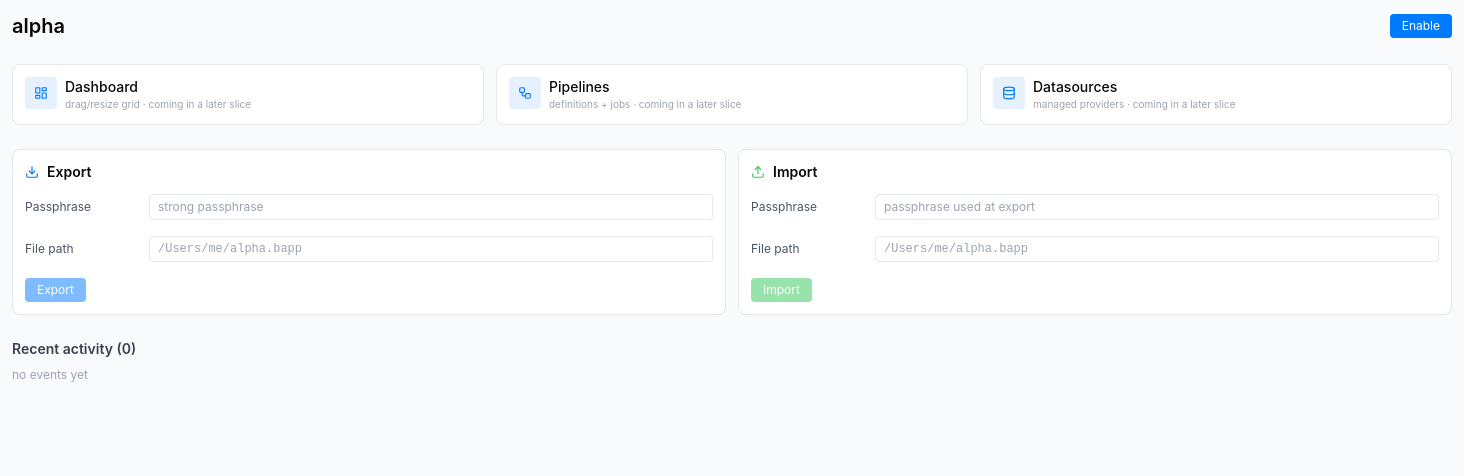
<ApplicationOverview> import/export › Enable button shows the failed-resources list in the report
The image size is (1464, 476).
What coordinates should you click on to do the following:
click the button with test id "enable-app"
I would click on:
 (1421, 26)
Its box is x1=1390 y1=14 x2=1452 y2=38.
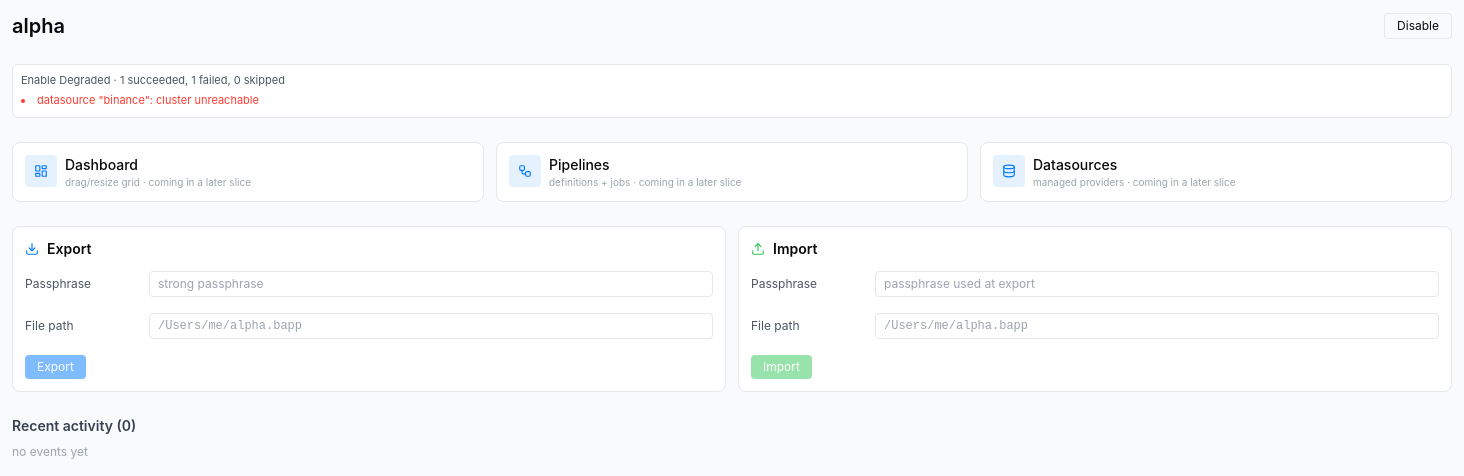
expect the element with test id "lifecycle-enabled" shows "Degraded": met, box x1=59 y1=73 x2=110 y2=87
expect the list with test id "enable-failed" shows "datasource \"binance\"": met, box x1=37 y1=93 x2=259 y2=107
expect the list with test id "enable-failed" shows "cluster unreachable": met, box x1=156 y1=93 x2=259 y2=107
